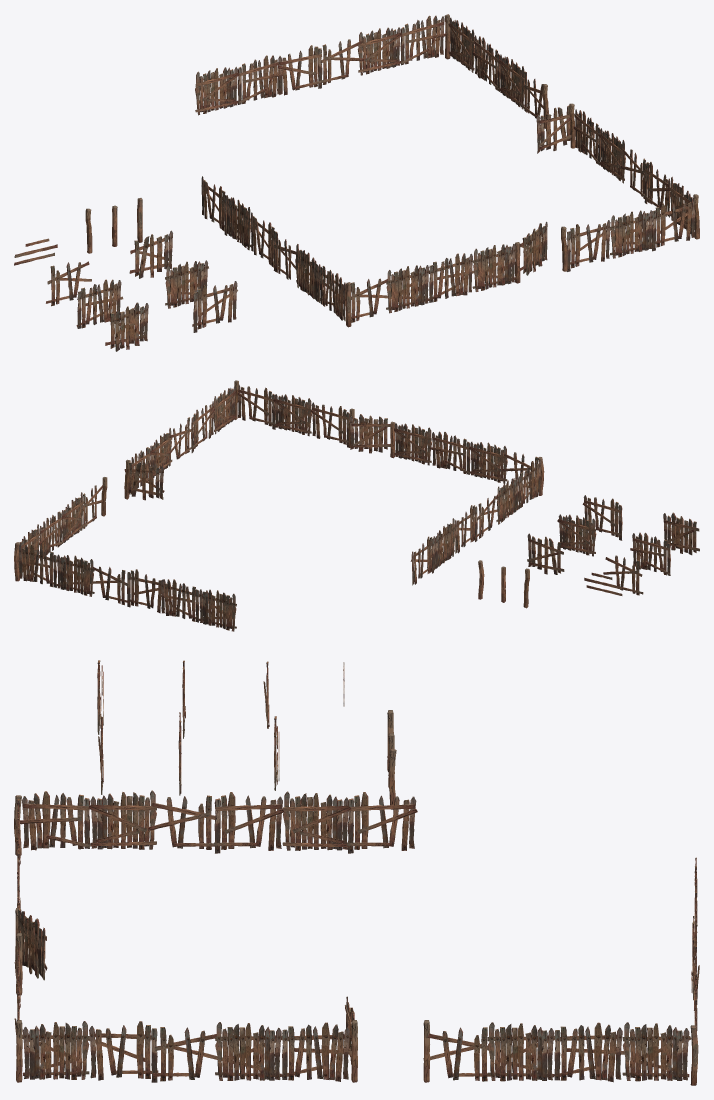
Rendered from fence.fbx.
The picture shows the model from 3 angles, top to bottom: view 1: azimuth 30°, elevation 25°; view 2: azimuth 150°, elevation 25°; view 3: azimuth 270°, elevation 25°; orthographic projection. The views are drawn at different scales.
Visible parts, largest first — view 1: fence, fence_1, gate_1, fence_2, fence_3, gate_2, fence_4; view 2: fence, fence_1, fence_2, gate_1, fence_3, gate_2, fence_4; view 3: fence.
Part boxes in pixels (box(x1,y1,x2,y2)): fence: box(195, 14, 699, 327); fence_1: box(165, 260, 208, 308); gate_1: box(105, 302, 148, 351); fence_2: box(76, 279, 123, 328); fence_3: box(192, 281, 237, 332); gate_2: box(129, 230, 172, 278); fence_4: box(46, 261, 91, 306); fence: box(14, 380, 544, 631); fence_1: box(557, 514, 596, 556); fence_2: box(630, 532, 670, 575); gate_1: box(663, 512, 699, 555); fence_3: box(582, 495, 622, 540); gate_2: box(527, 533, 564, 574); fence_4: box(603, 555, 643, 595); fence: box(14, 790, 699, 1085).
Bounding box in the file's own units: 2856 × 240 × 2217.
Materials: 1 (1 with a texture image).
